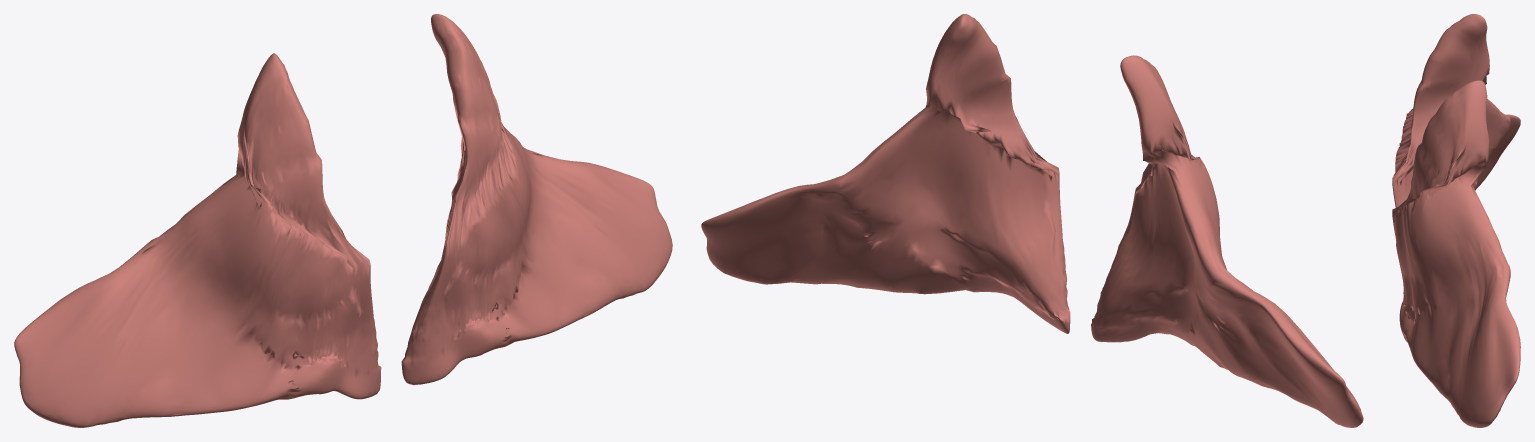
File: depressor_septi.glb
The picture shows the model from 3 angles, left to right: view 1: azimuth 30°, elevation 25°; view 2: azimuth 150°, elevation 25°; view 3: azimuth 270°, elevation 25°; orthographic projection. The views are drawn at different scales.
Parts seen in each view (by area): view 1: depressor_septi_R, depressor_septi_L; view 2: depressor_septi_L, depressor_septi_R; view 3: depressor_septi_L, depressor_septi_R.
Part boxes in pixels (x1,y1,x2,y2): depressor_septi_R: (14, 53, 381, 427); depressor_septi_L: (401, 14, 672, 385); depressor_septi_L: (701, 14, 1070, 333); depressor_septi_R: (1091, 55, 1363, 427); depressor_septi_L: (1392, 80, 1520, 427); depressor_septi_R: (1392, 14, 1520, 207).
Bounding box in the file's own units: 0.0325 × 0.0157 × 0.00678.
